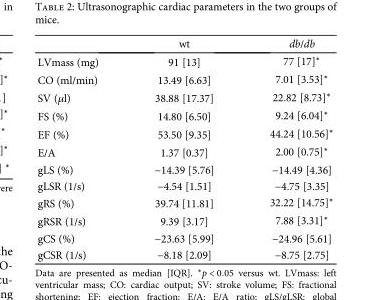table: (36, 36, 332, 261)
table column: (125, 36, 241, 261), (241, 36, 332, 261), (36, 36, 125, 261)
table column header: (36, 36, 332, 51)
table row: (36, 141, 332, 160), (36, 210, 332, 229), (36, 51, 332, 69), (36, 69, 332, 87), (36, 87, 332, 105), (36, 105, 332, 123), (36, 123, 332, 141), (36, 160, 332, 177), (36, 193, 332, 210), (36, 229, 332, 246), (36, 177, 332, 193), (36, 36, 332, 51), (36, 246, 332, 261)
